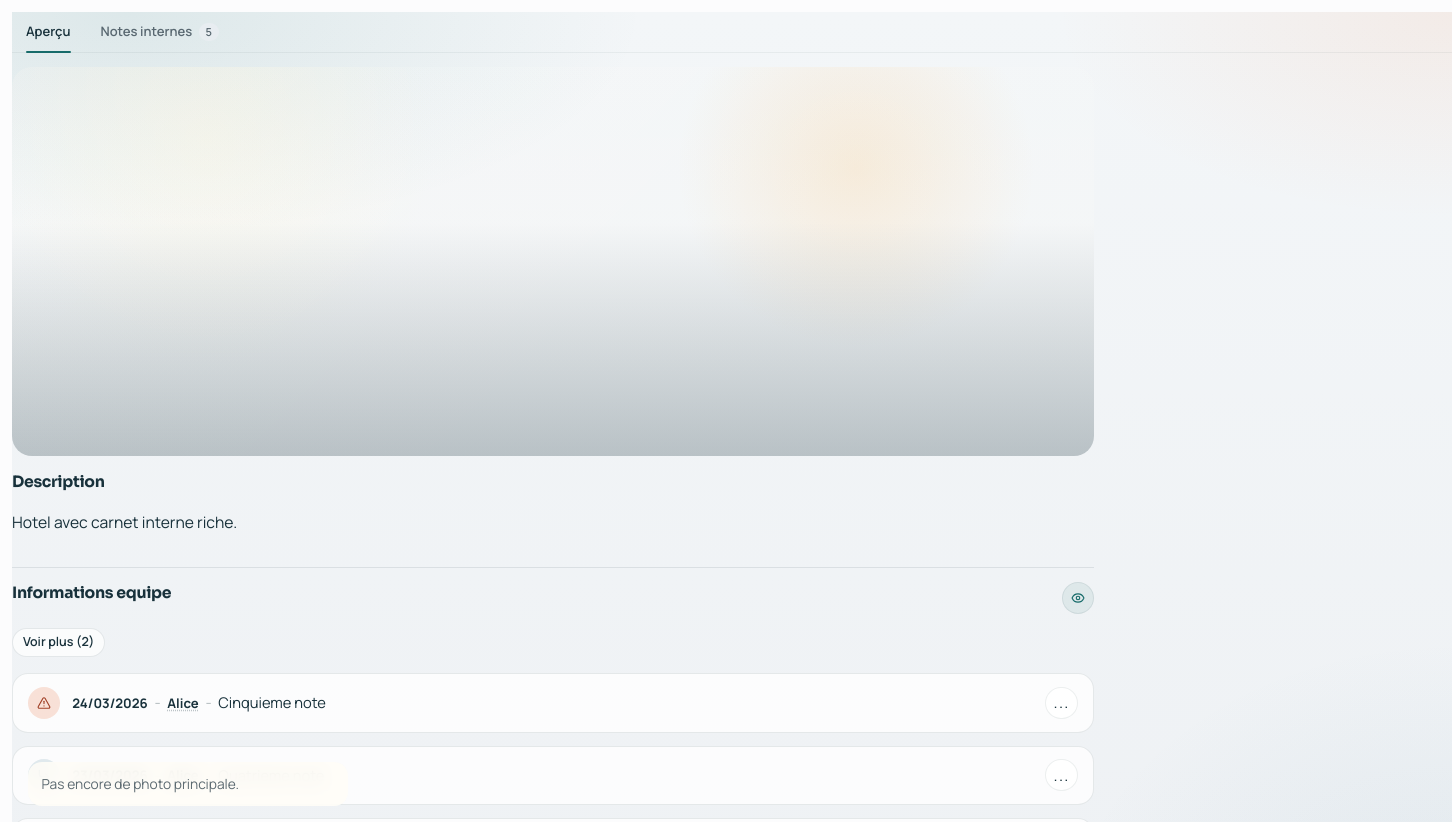
Test case: ObjectDetailView › shows only the three most recent team notes by default and lets the user expand the list
The width and height of the screenshot is (1452, 822).
Expected: the heading "Informations equipe" is shown, x1=12 y1=582 x2=171 y2=606
Expected: the text "Cinquieme note" is shown, x1=218 y1=692 x2=326 y2=712
What coordinates should you click on to do the following:
click the button "Voir plus (2)"
I would click on:
 (59, 642)
Its box is x1=12 y1=628 x2=105 y2=657.
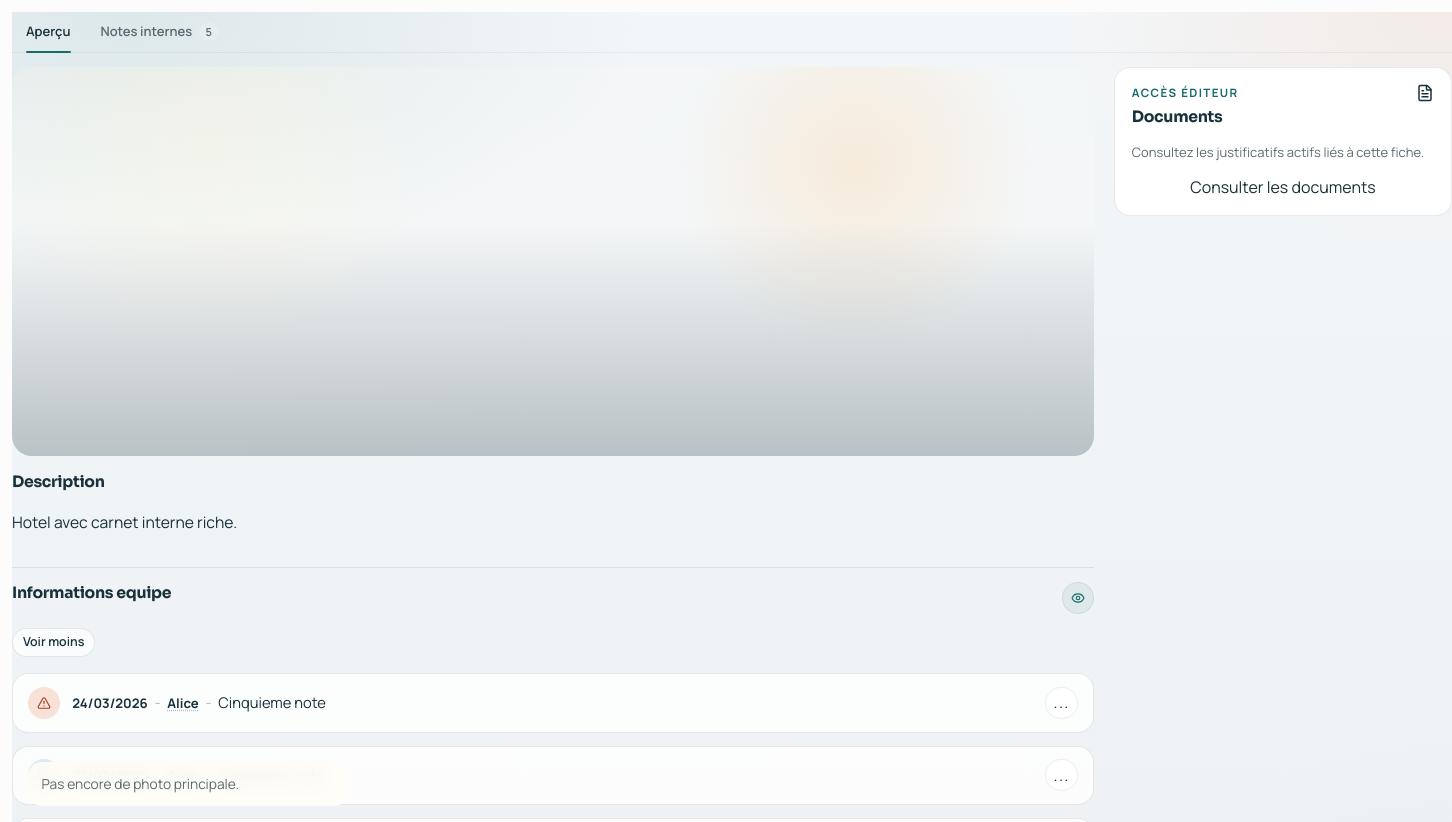
Now the button "Voir moins" is shown, box x1=12 y1=628 x2=95 y2=657
